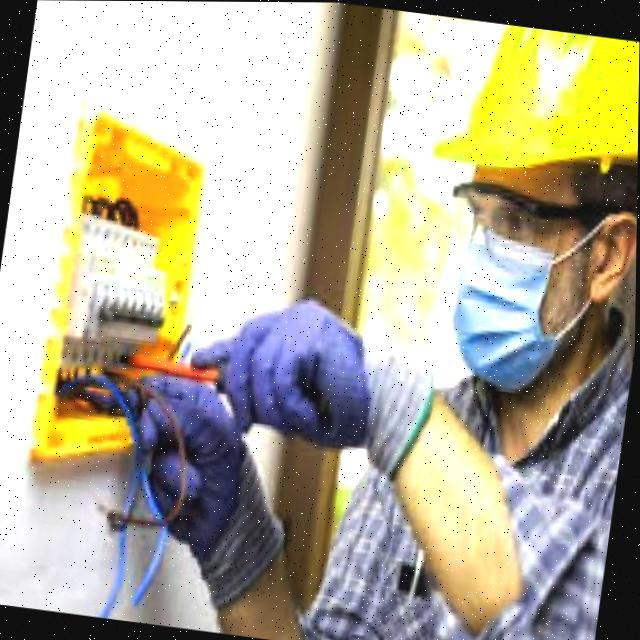goggles_on: (444, 170, 640, 282)
